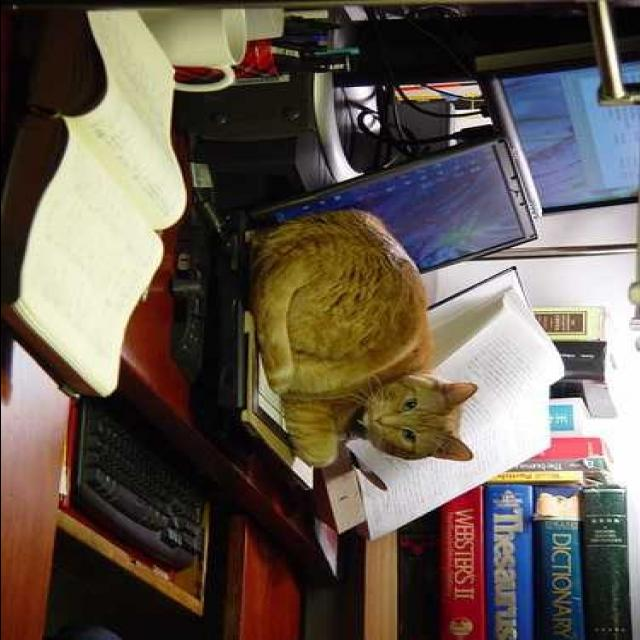laptop: (192, 145, 516, 515)
